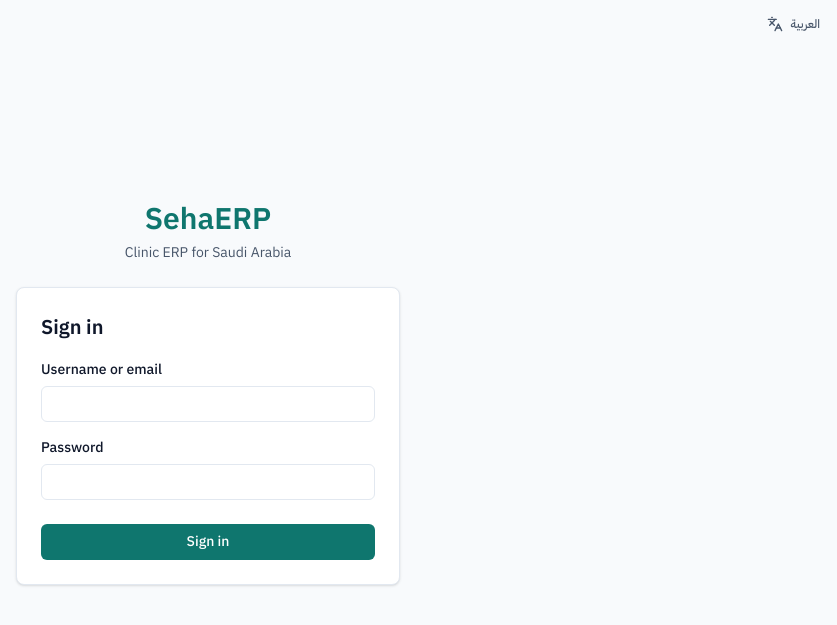
it: App shell › validates required fields before submitting
Click the button "Sign in": (208,542) [41,524,375,560]
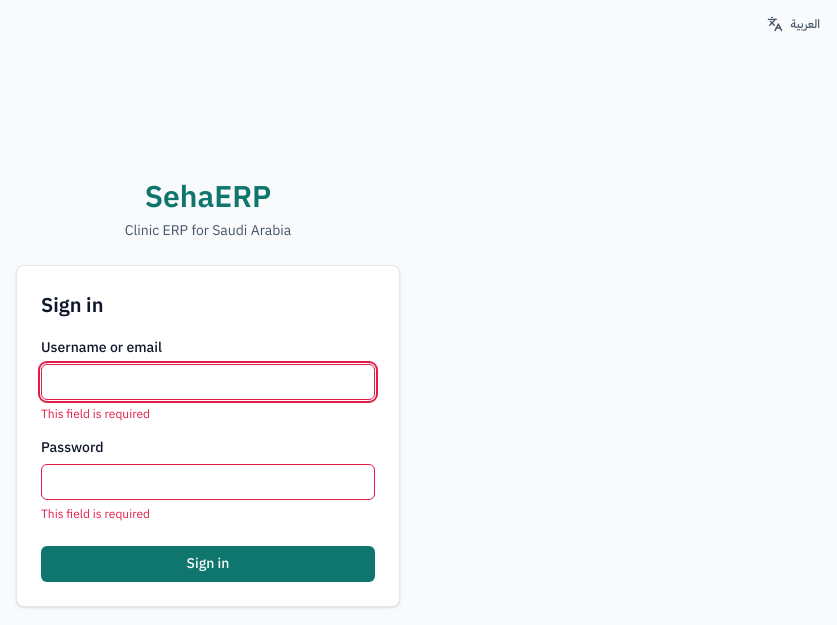
Result: the text "This field is required" is shown 2 times at [41,404,150,422]; [41,504,150,522]
